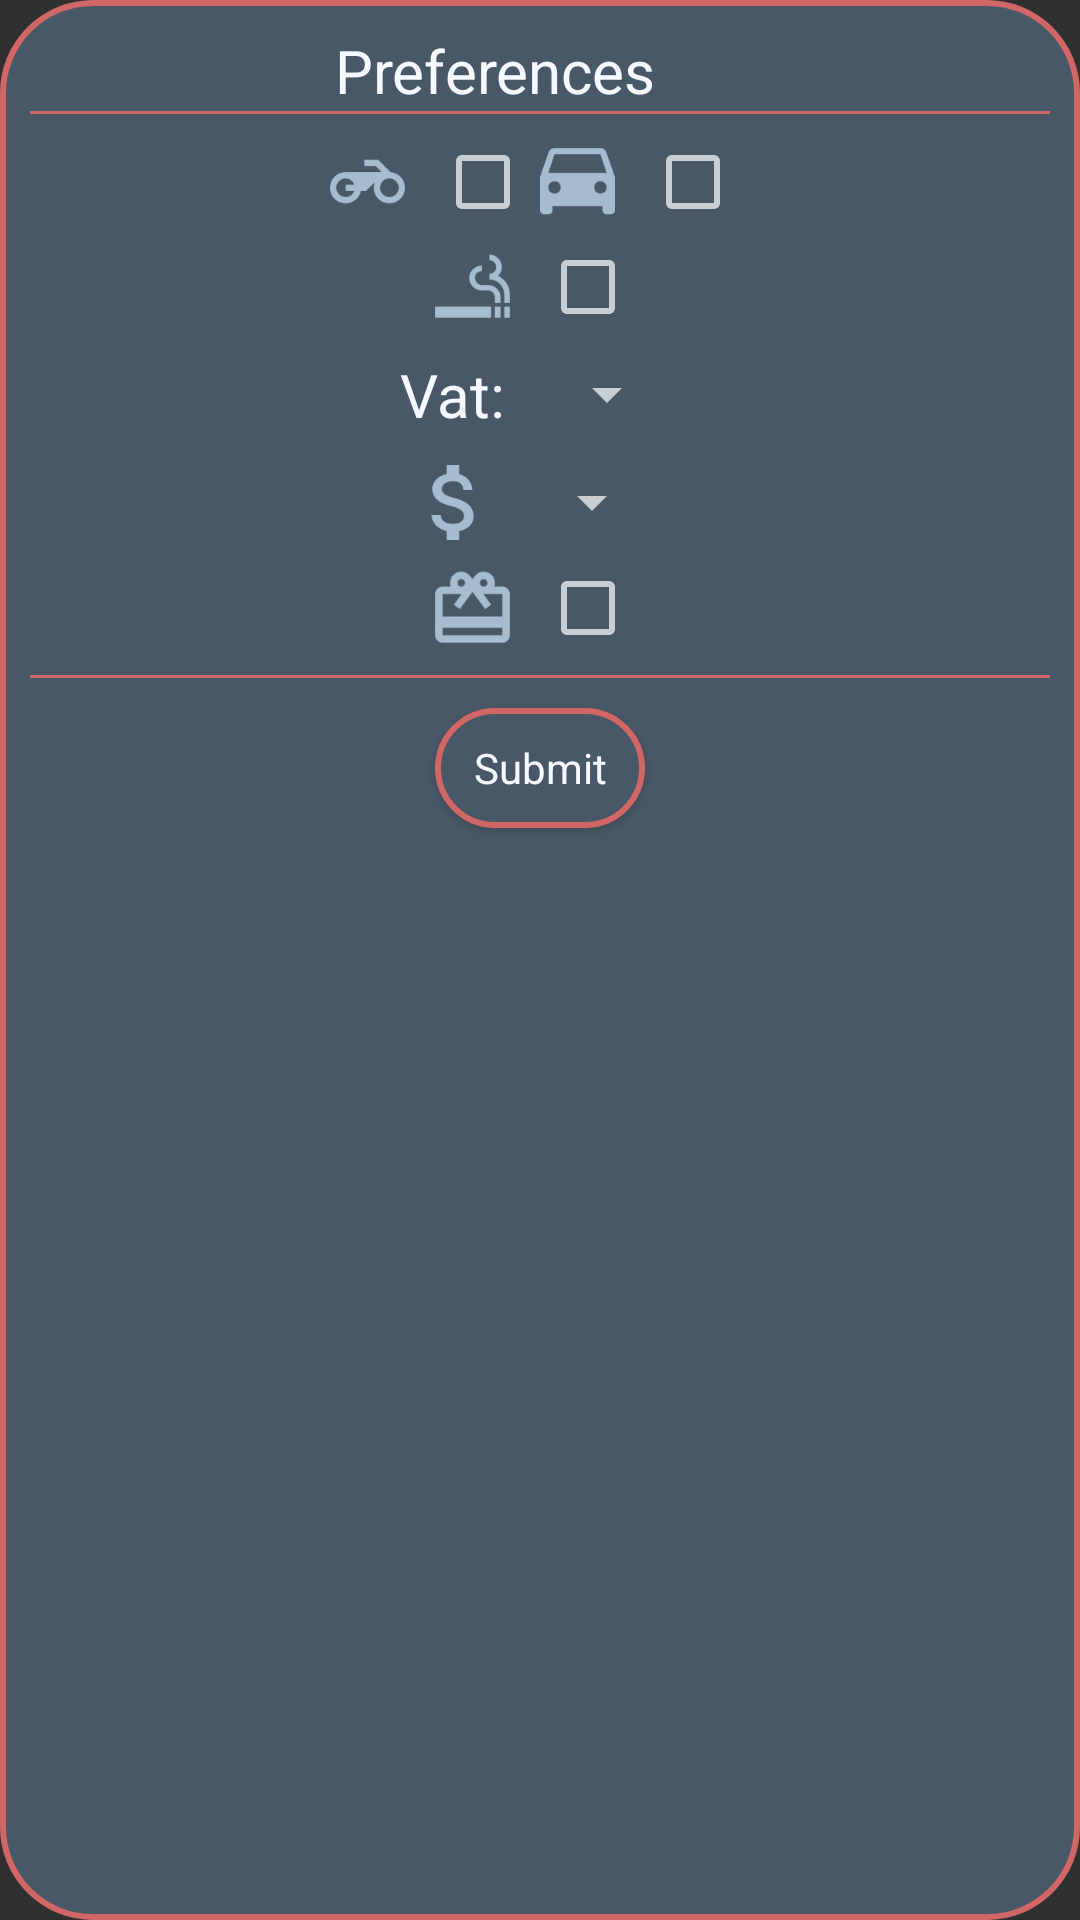

Screen size 1080px x 1920px. Icon name, then its box in pixels as (x1, y1, x2, y2):
bikeicon: (330, 159, 405, 204)
caricon: (540, 148, 615, 215)
moneyinfo: (431, 465, 474, 540)
smokingicon: (435, 254, 510, 318)
